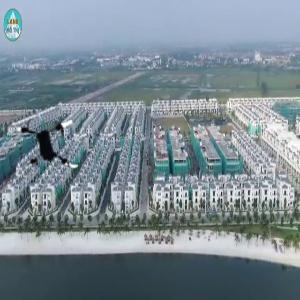drone: (16, 106, 91, 181)
